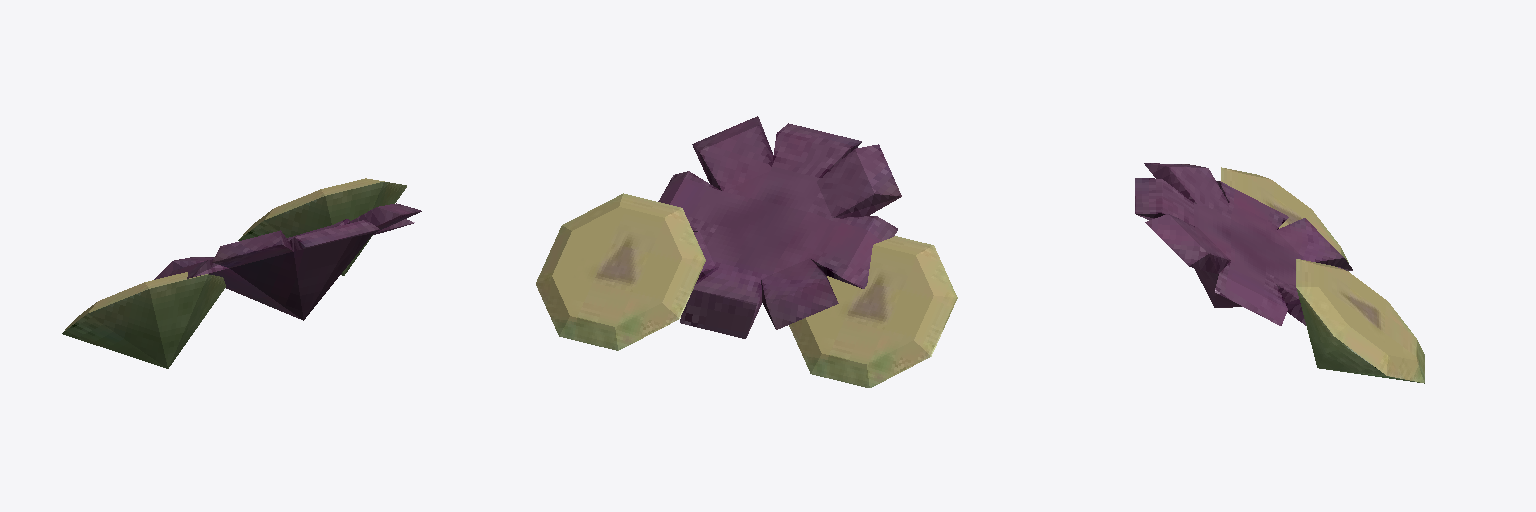
The picture shows the model from 3 angles: view 1: azimuth 30°, elevation 25°; view 2: azimuth 150°, elevation 25°; view 3: azimuth 270°, elevation 25°; orthographic projection.
Visible parts, largest first — view 1: FOL_Flower_MID_08; view 2: FOL_Flower_MID_08; view 3: FOL_Flower_MID_08.
Part boxes in pixels (bbox=[...]): FOL_Flower_MID_08: bbox=[62, 178, 421, 368]; FOL_Flower_MID_08: bbox=[536, 116, 957, 387]; FOL_Flower_MID_08: bbox=[1135, 163, 1424, 383].
Size of the model in its own units: 0.4991 by 0.197 by 0.3495.
1 materials, 1 textured.